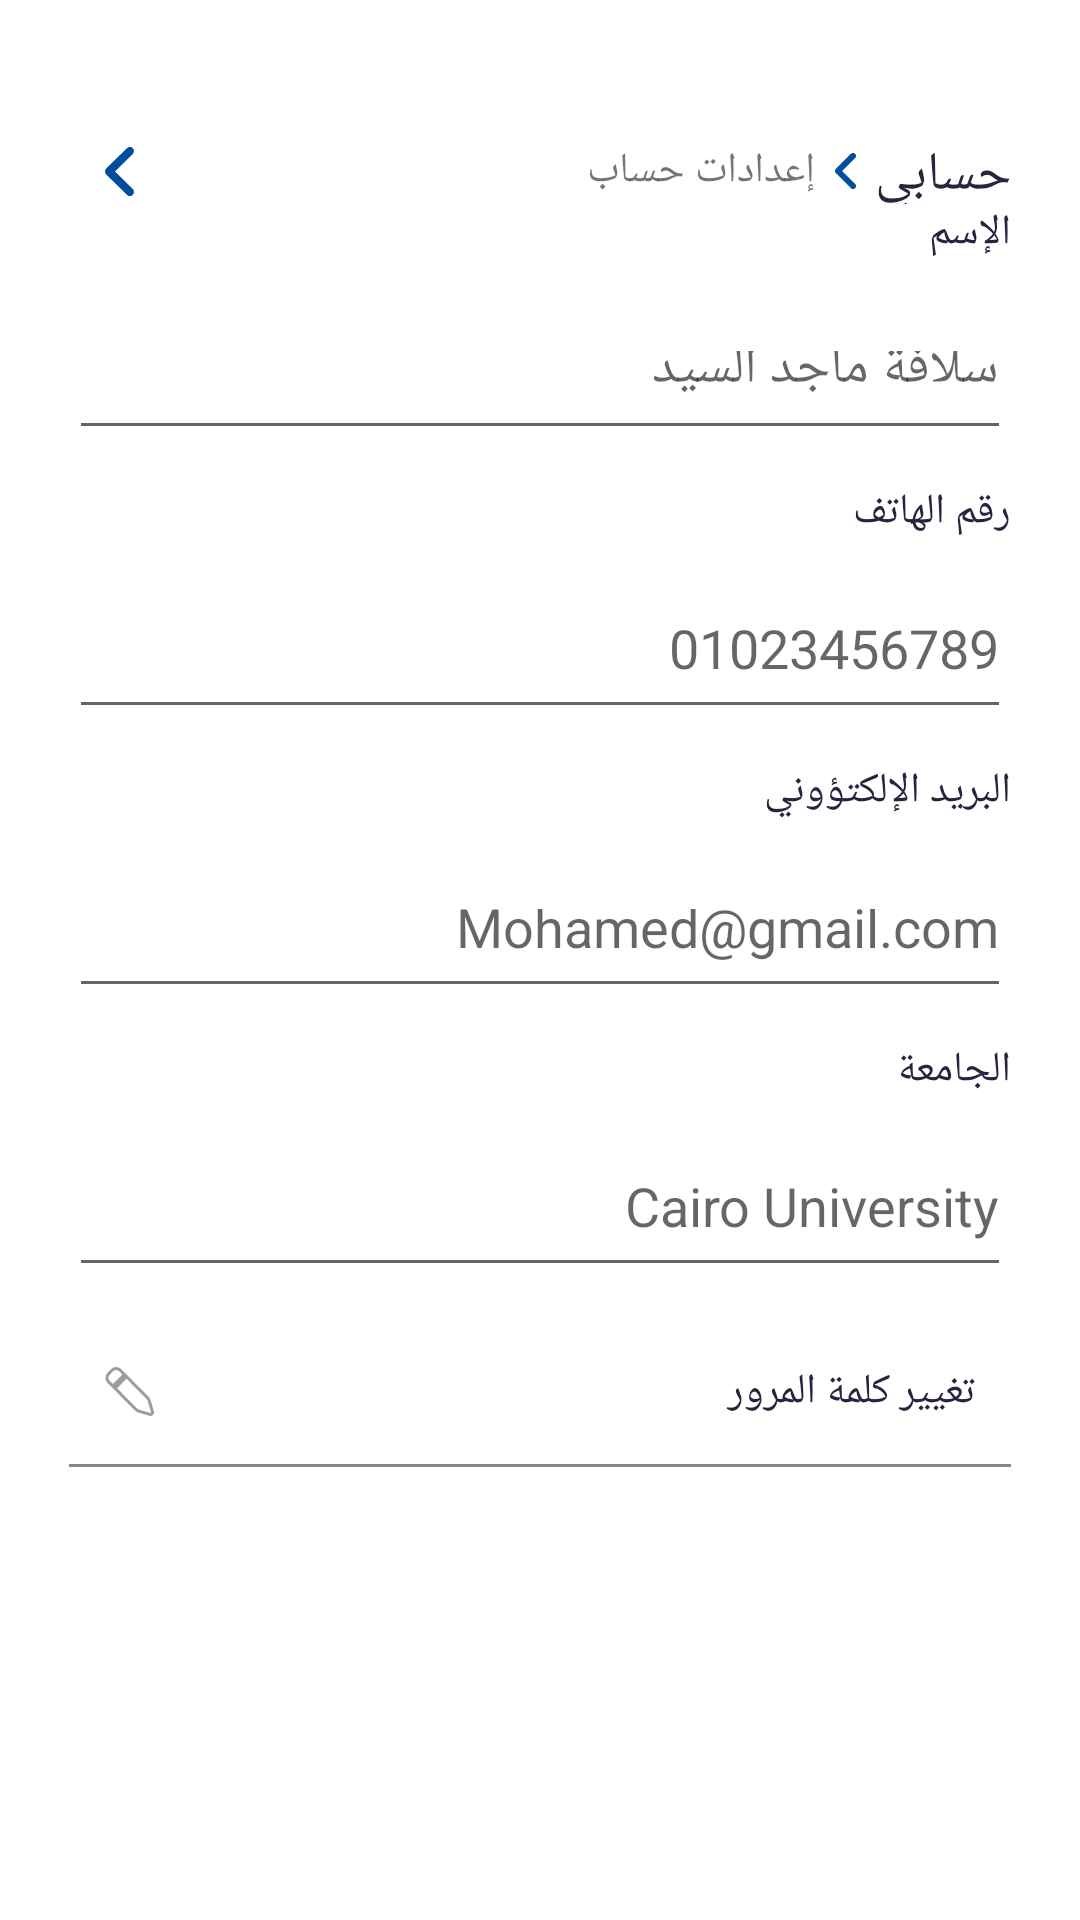

Icon click points for this 1080x1920 phone screenshot, format (x=x, y=y):
angle left: (x=119, y=171), (x=845, y=171)
